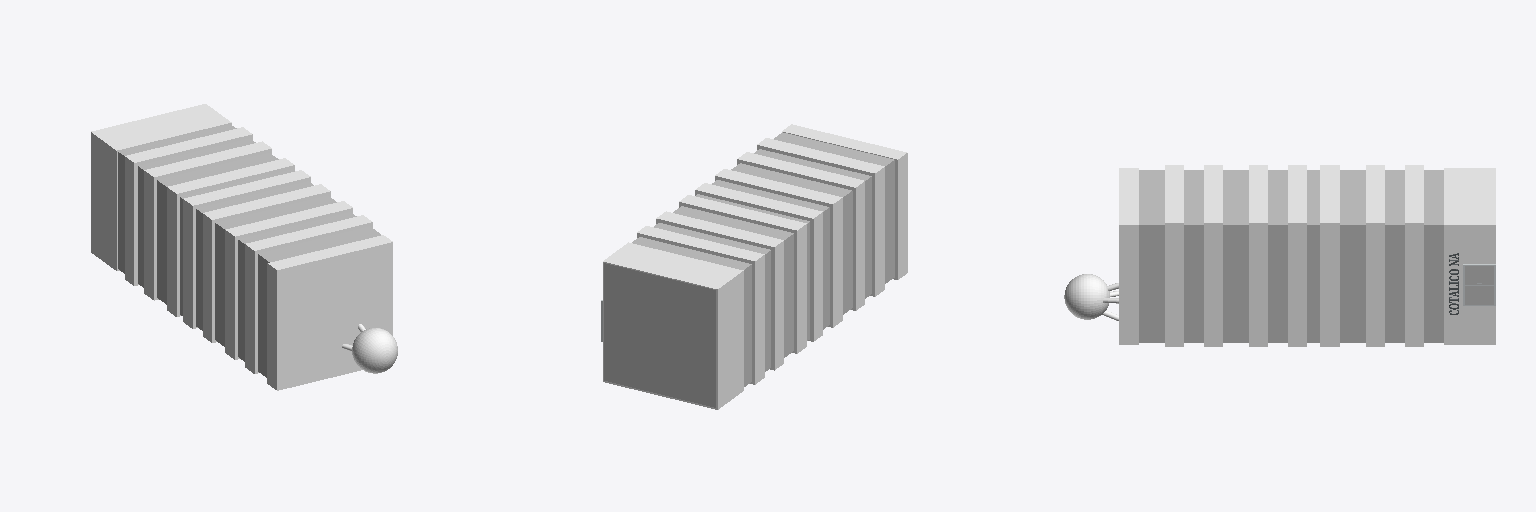
Rendered from tinker 6.obj.
The picture shows the model from 3 angles: view 1: azimuth 30°, elevation 25°; view 2: azimuth 150°, elevation 25°; view 3: azimuth 270°, elevation 25°; orthographic projection.
Parts seen in each view (by area): view 1: obj_0; view 2: obj_0; view 3: obj_0.
Part boxes in pixels (x1,y1,x2,y2): obj_0: (91,104,397,390); obj_0: (601,124,907,409); obj_0: (1064,165,1495,346).
Size of the model in its own units: 21.06 by 20.96 by 66.43.